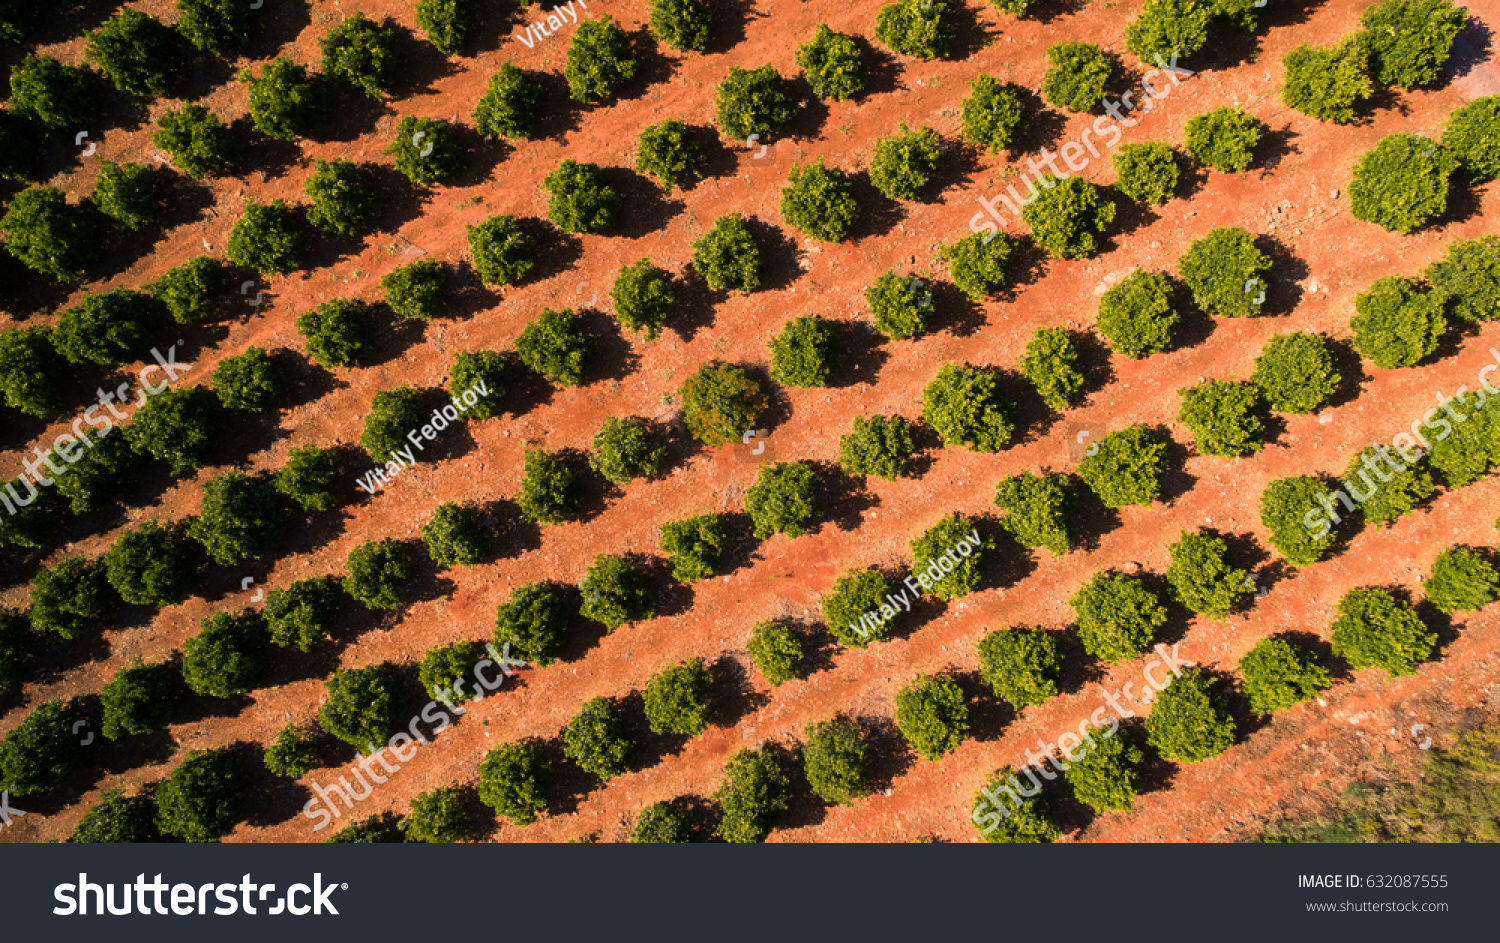TREE: (1346, 135, 1459, 232), (1343, 275, 1450, 367), (958, 759, 1066, 848), (1331, 588, 1440, 672), (1129, 1, 1253, 70), (1180, 228, 1277, 314), (776, 160, 872, 246), (1025, 172, 1117, 262), (80, 8, 175, 95), (1142, 670, 1241, 752), (1370, 7, 1470, 88), (1095, 269, 1186, 359), (51, 281, 142, 370), (1084, 423, 1177, 510), (927, 368, 1022, 452), (160, 750, 244, 843), (1076, 570, 1165, 658), (1284, 39, 1374, 124), (22, 555, 114, 638), (1, 699, 70, 808), (189, 471, 267, 567), (2, 188, 79, 284), (178, 609, 262, 697), (1060, 734, 1149, 817), (1236, 642, 1335, 714), (640, 664, 723, 747), (1173, 533, 1251, 621), (129, 379, 207, 467), (491, 581, 575, 662), (111, 525, 191, 608), (1016, 325, 1094, 411), (681, 363, 767, 441), (1424, 393, 1500, 481), (1168, 388, 1266, 454), (937, 231, 1024, 306), (319, 671, 409, 743), (891, 686, 972, 765), (873, 120, 950, 202), (322, 12, 392, 102), (840, 408, 924, 482), (904, 521, 992, 592), (518, 310, 596, 389), (975, 629, 1056, 706), (147, 251, 228, 327), (718, 760, 787, 848), (717, 63, 792, 143), (552, 709, 635, 781), (1001, 470, 1071, 556), (223, 200, 302, 275), (267, 576, 343, 653), (579, 548, 654, 626), (745, 462, 825, 535), (812, 573, 902, 638), (569, 21, 638, 105), (768, 314, 844, 390), (692, 218, 767, 296), (519, 450, 595, 525), (472, 750, 553, 820), (8, 62, 81, 138), (1430, 238, 1500, 318), (1349, 452, 1426, 524), (1255, 347, 1343, 408), (2, 316, 54, 420), (240, 62, 310, 140), (358, 385, 430, 460), (610, 263, 682, 338), (542, 158, 614, 232), (150, 101, 222, 176), (346, 541, 419, 614), (798, 25, 870, 99), (957, 76, 1032, 147), (862, 274, 940, 342), (1264, 491, 1341, 558), (305, 158, 371, 236), (276, 444, 344, 519), (596, 418, 670, 485), (478, 63, 538, 144), (1187, 113, 1270, 171), (663, 516, 735, 580), (1042, 43, 1114, 106), (875, 1, 949, 62), (636, 120, 710, 180), (805, 731, 871, 799), (1441, 539, 1500, 615), (213, 348, 276, 418), (91, 160, 152, 232), (415, 644, 493, 701), (1444, 106, 1500, 185), (465, 218, 537, 278), (420, 500, 484, 566), (745, 623, 814, 684), (450, 352, 514, 417), (75, 784, 144, 844), (398, 117, 453, 190), (301, 300, 358, 368), (1119, 144, 1184, 204), (178, 1, 242, 60), (101, 680, 162, 741), (412, 791, 486, 840), (651, 1, 716, 53), (381, 261, 443, 315), (418, 2, 474, 55), (631, 808, 690, 847), (268, 728, 316, 774)
